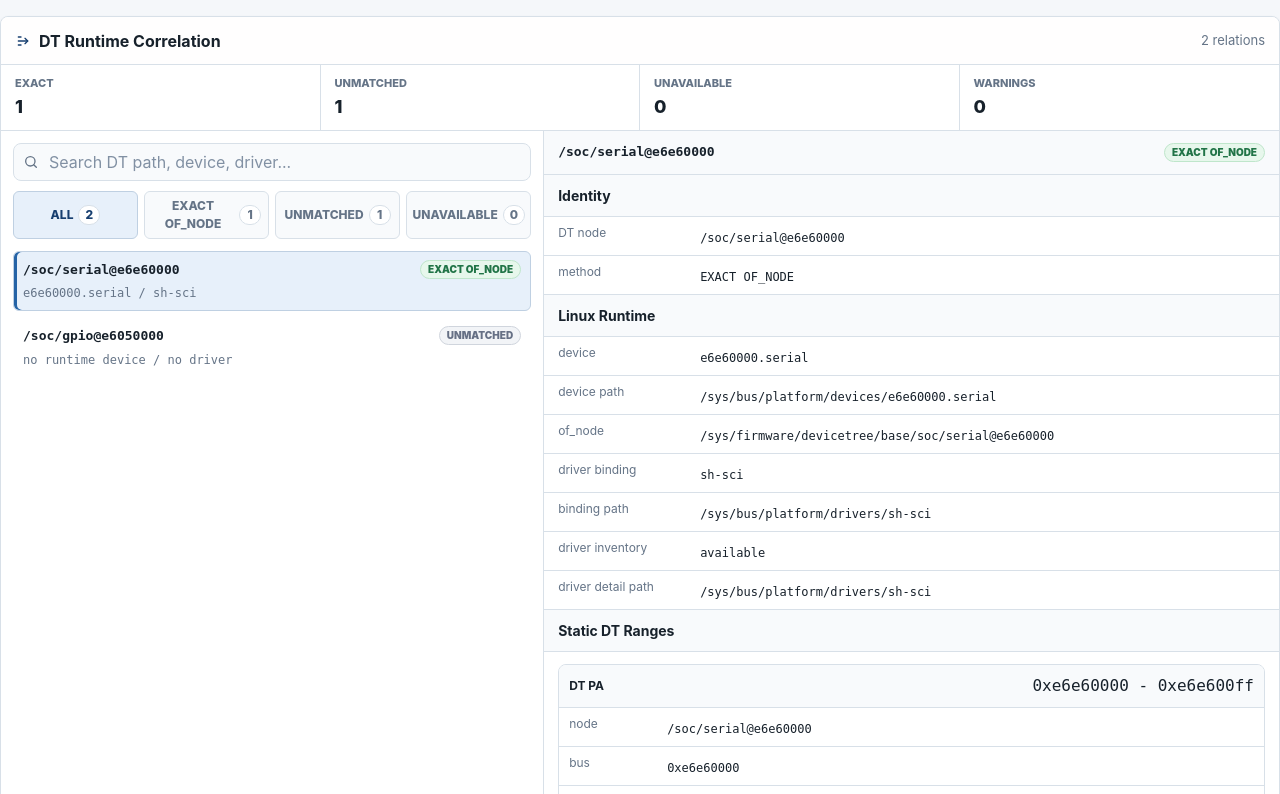
Test: CorrelationView › searches by runtime driver and device name
Check: the button "/soc/serial@e6e60000 EXACT OF_NODE e6e60000.serial / sh-sci" is shown, box x1=13 y1=250 x2=531 y2=311
Type "sh-sci" into the search field named "Search correlations". click: x=284, y=162
box: x1=47 y1=144 x2=521 y2=180
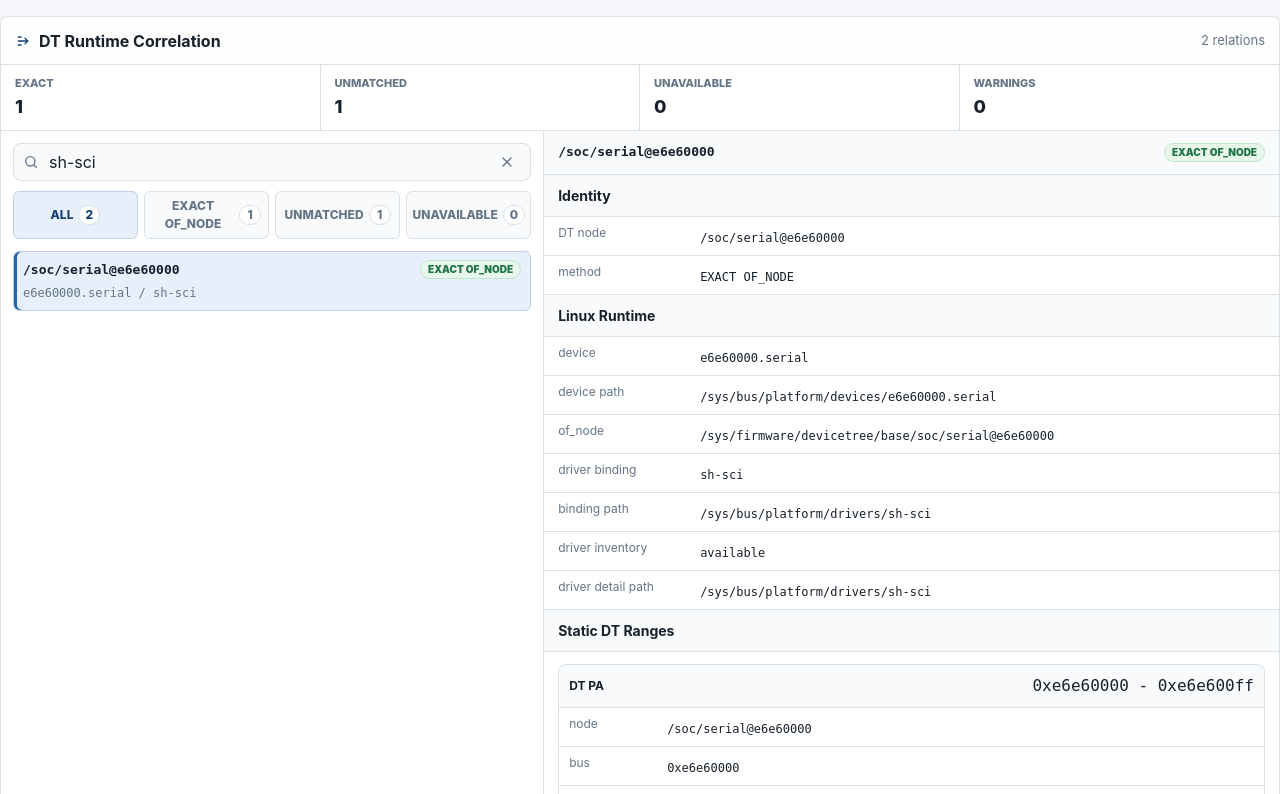
Check: the 3rd text "/soc/serial@e6e60000" is shown, box x1=23 y1=260 x2=180 y2=279
Check: the button "/soc/gpio@e6050000" is gone
